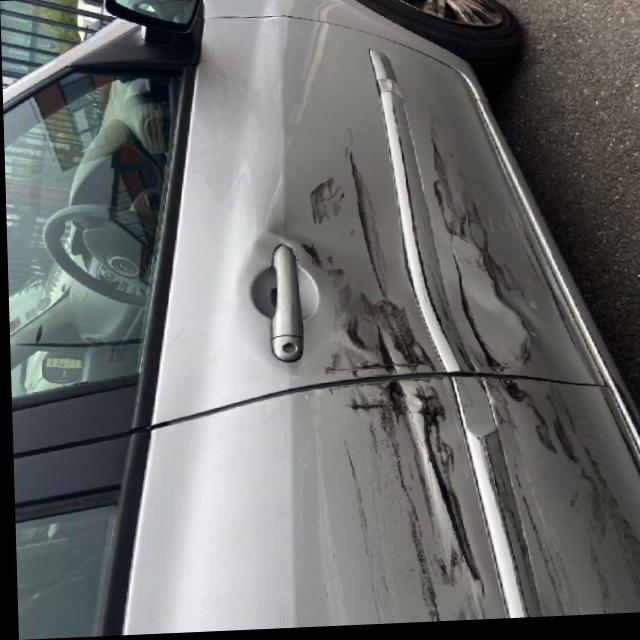porte-avant: (4, 3, 612, 458)
